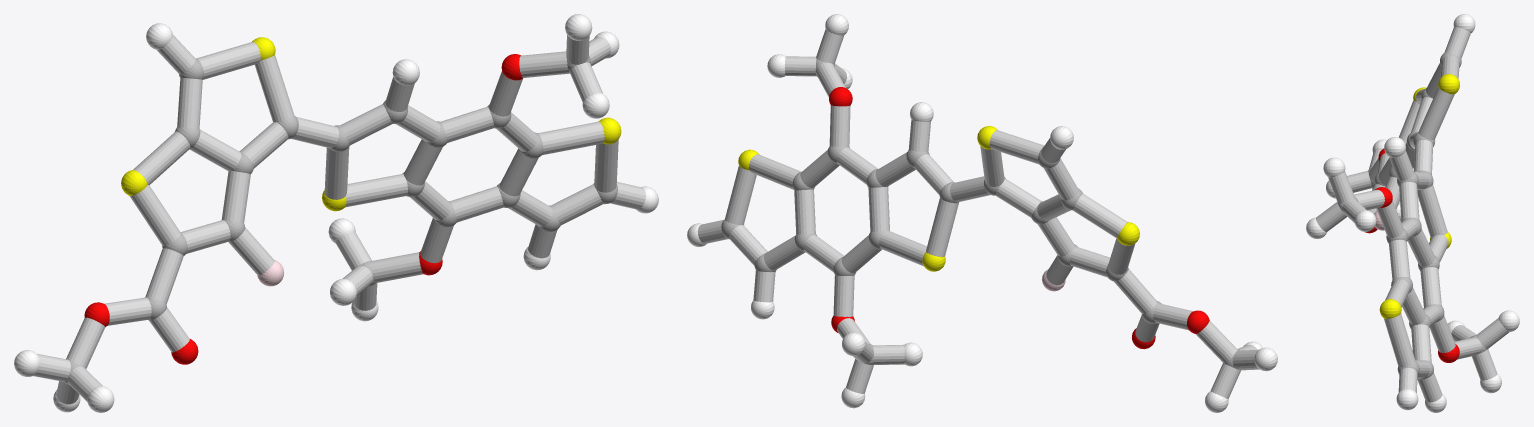
File: color.glb
3 renders of one model, left to right at view 1: azimuth 30°, elevation 25°; view 2: azimuth 150°, elevation 25°; view 3: azimuth 270°, elevation 25°, orthographic. The views are drawn at different scales.
Parts seen in each view (by area): view 1: grp15205, grp8689, grp1, grp13395, grp7241; view 2: grp15205, grp8689, grp1, grp7241, grp13395; view 3: grp15205, grp8689, grp1, grp7241, grp13395.
Boxes of the visible parts, x1,y1,x2,y2 form: grp15205: (33, 35, 645, 404); grp8689: (14, 14, 658, 412); grp1: (63, 56, 617, 384); grp13395: (84, 54, 522, 364); grp7241: (121, 37, 621, 211); grp15205: (697, 29, 1259, 398); grp8689: (687, 14, 1277, 412); grp1: (721, 58, 1240, 367); grp7241: (738, 126, 1139, 271); grp13395: (829, 87, 1209, 349); grp15205: (1316, 27, 1509, 402); grp8689: (1306, 14, 1519, 412); grp1: (1338, 52, 1487, 379); grp7241: (1379, 74, 1459, 318); grp13395: (1365, 148, 1459, 362).
Size of the model in its own units: 16.7 by 8.8 by 5.87.
